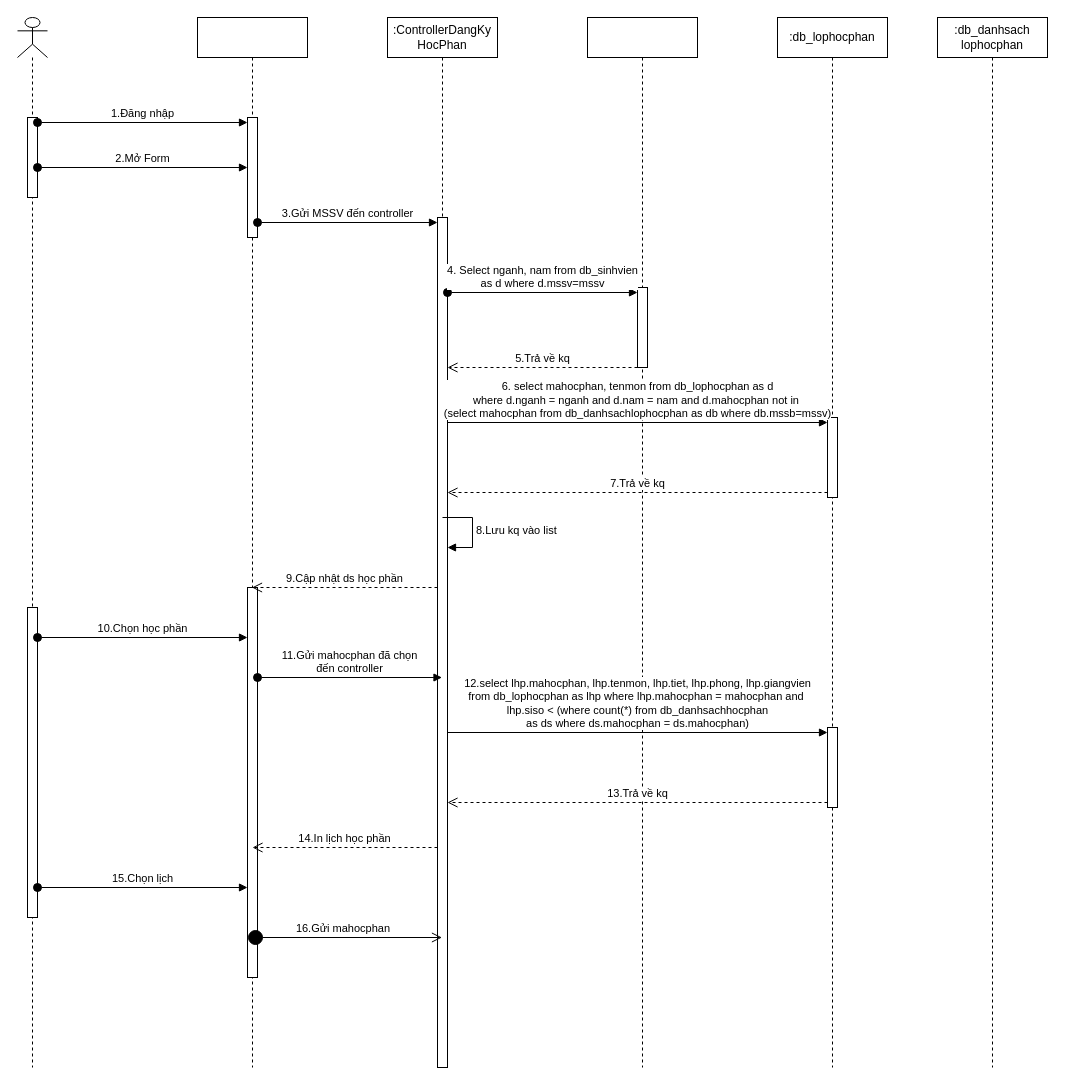
Some shapes in this 1065 by 1085 pixel diagram are drawn without their labels. The shapes that lost their labels are listed below. From the top down, each one's box as (x1, y1, x2, y2) in pixels, then its label:
(196, 16, 308, 1068): :ViewDangKy HocPhan
(586, 16, 698, 1068): :db_sinhvien
